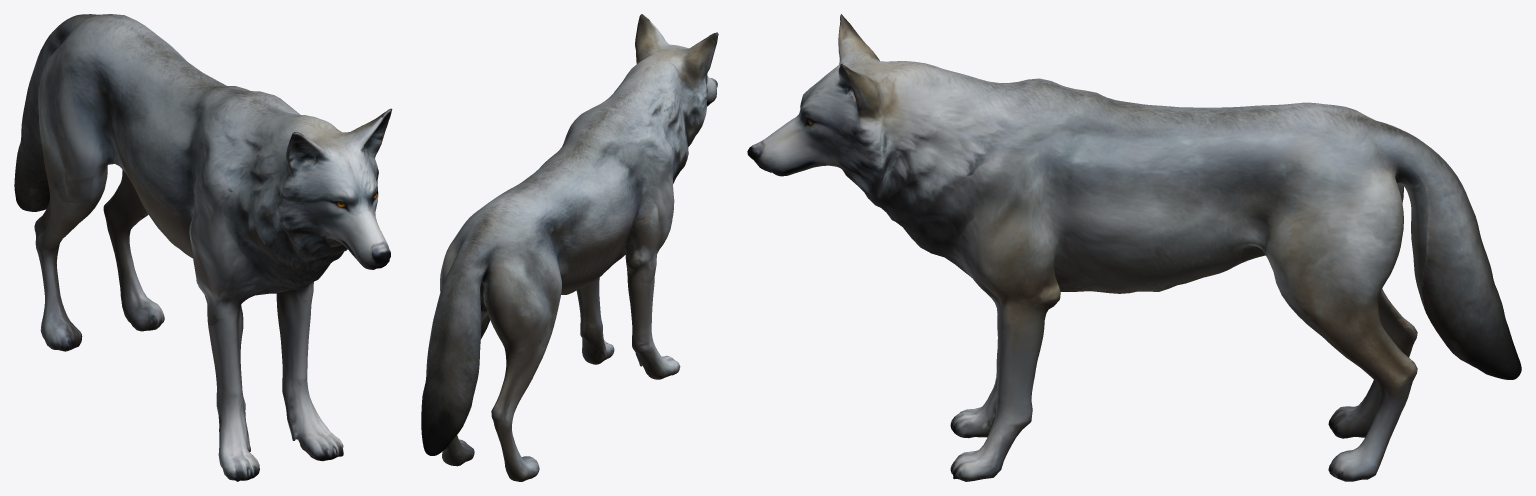
File: wolf.glb
The picture shows the model from 3 angles, left to right: view 1: azimuth 30°, elevation 25°; view 2: azimuth 150°, elevation 25°; view 3: azimuth 270°, elevation 25°; orthographic projection. The views are drawn at different scales.
Size of the model in its own units: 0.4013 by 1.19 by 2.
Materials: 1 (1 with a texture image).
